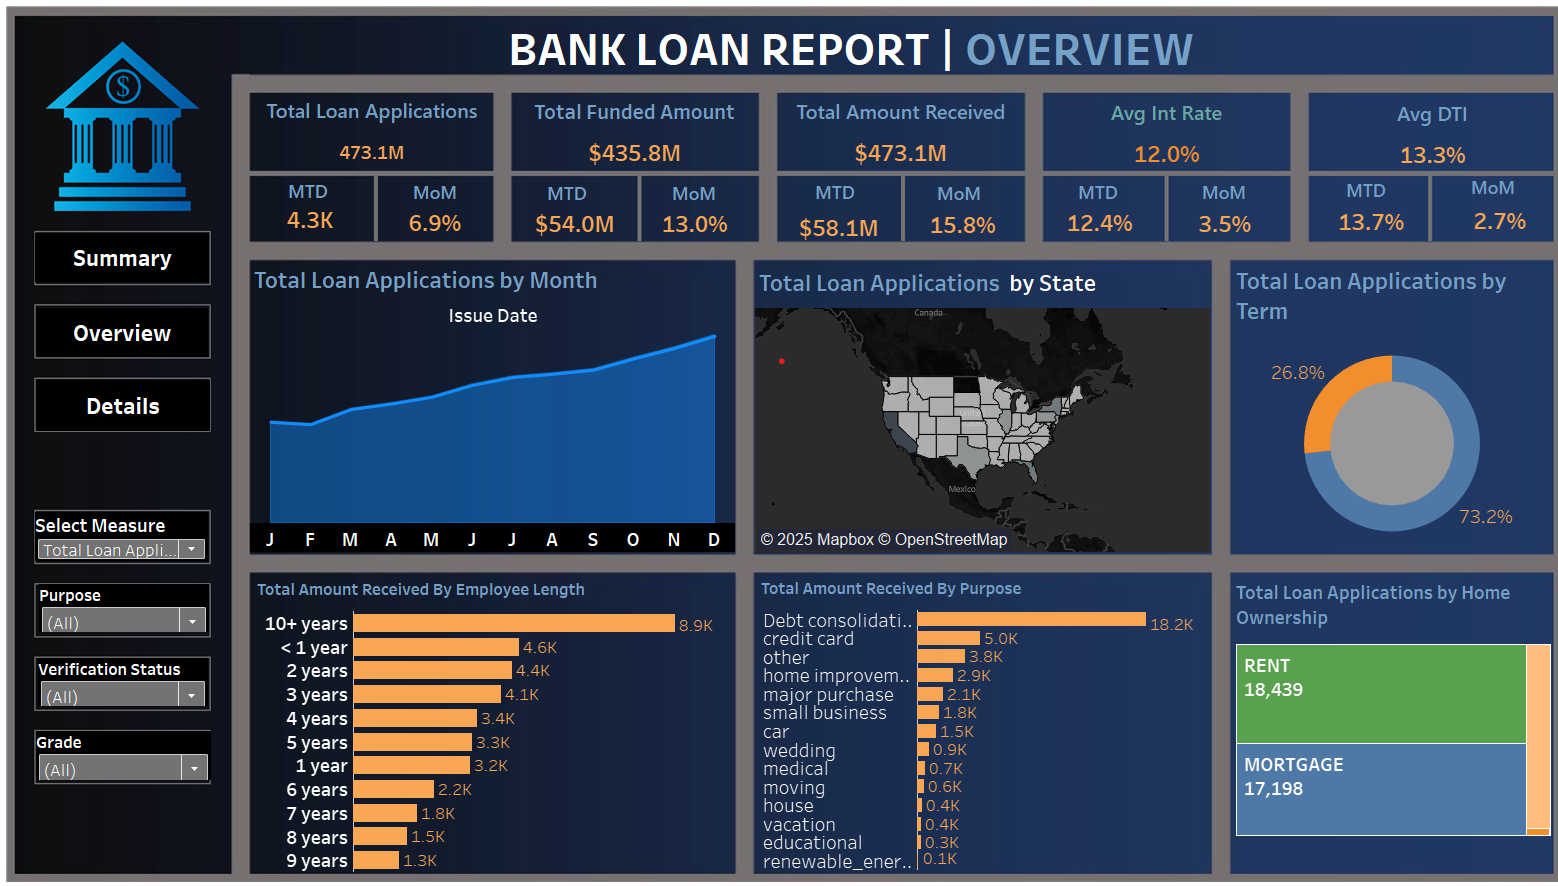

The dashboard page shown, as its layout file describes it:
{"tool":"tableau","page":{"name":"Overview","canvas":[1600,900],"ordinal":1},"visuals":[{"type":"image","param":"C:/Users/bhima/OneDrive/Desktop/Data Science Project/Module 1/Bank Loan Report/I","box":[8,8,1584,884]},{"type":"text","box":[270,29,1193,48]},{"type":"worksheet","title":"Total Loan Applications","mark":"Automatic","box":[265,98,244,78]},{"type":"worksheet","title":"Total Funded Amount","mark":"Automatic","box":[527,99,245,74]},{"type":"worksheet","title":"Total Amount Received","mark":"Automatic","box":[794,99,244,76]},{"type":"worksheet","title":"Avg Int Rate","mark":"Automatic","box":[1057,100,249,76]},{"type":"worksheet","title":"Avg DTI","mark":"Automatic","box":[1325,101,245,76]},{"type":"text","box":[1458,178,100,30]},{"type":"text","box":[1331,181,100,30]},{"type":"text","box":[273,182,100,30]},{"type":"text","box":[400,183,100,30]},{"type":"text","box":[800,183,100,30]},{"type":"text","box":[1063,183,100,30]},{"type":"text","box":[1189,183,100,30]},{"type":"text","box":[532,184,100,30]},{"type":"text","box":[659,184,100,30]},{"type":"text","box":[924,184,100,30]},{"type":"worksheet","title":"MoM Avg DTI","mark":"Automatic","box":[1470,195,90,63]},{"type":"worksheet","title":"MTD Avg Int Rate","mark":"Automatic","box":[1060,198,109,60]},{"type":"worksheet","title":"MoM Avg Int Rate","mark":"Automatic","box":[1192,198,95,61]},{"type":"worksheet","title":"MTD Avg DTI","mark":"Automatic","box":[1349,198,73,57]},{"type":"worksheet","title":"MTD Total Loan Applications","mark":"Automatic","box":[281,199,88,51]},{"type":"worksheet","title":"MTD Total Amount  Recevied","mark":"Automatic","box":[797,199,113,68]},{"type":"worksheet","title":"MoM Total Loan Applications","mark":"Automatic","box":[398,200,103,56]},{"type":"worksheet","title":"MoM Total  Amount Received","mark":"Automatic","box":[934,203,88,54]},{"type":"worksheet","title":"MTD Total Funded Amount","mark":"Automatic","box":[540,204,99,50]},{"type":"worksheet","title":"MoM Total Funded Amount","mark":"Automatic","box":[667,204,85,49]},{"type":"dashboard-object","box":[50,239,174,49]},{"type":"worksheet","title":"Month","mark":"Area","rows":["Calculation_382524533458173986","Calculation_382524533458173986"],"cols":["issue_date"],"box":[265,266,485,292]},{"type":"worksheet","title":"Term","mark":"Pie","rows":["Calculation_359443585551003657","Calculation_359443585551003657"],"box":[1247,267,320,290]},{"type":"worksheet","title":"State","mark":"Multipolygon","box":[770,269,455,289]},{"type":"dashboard-object","box":[51,314,172,49]},{"type":"dashboard-object","box":[51,386,174,51]},{"type":"parameter","param":"[Parameters].[Parameter 1]","box":[50,518,173,49]},{"type":"worksheet","title":"Purpose","mark":"Automatic","rows":["purpose"],"cols":["Calculation_382524533458173986"],"box":[772,579,452,297]},{"type":"worksheet","title":"Emp Length","mark":"Automatic","rows":["emp_length"],"cols":["Calculation_382524533458173986"],"box":[268,580,480,298]},{"type":"worksheet","title":"Home Ownership","mark":"Automatic","box":[1247,581,322,296]},{"type":"filter","title":"Total Loan Applications","param":"[federated.0bea7po1puaagk1dfoyjl1ghiif2].[none:purpose:nk]","box":[54,590,170,48]},{"type":"filter","title":"Total Loan Applications","param":"[federated.0bea7po1puaagk1dfoyjl1ghiif2].[none:verification_status:nk]","box":[53,664,170,48]},{"type":"filter","title":"Total Loan Applications","param":"[federated.0bea7po1puaagk1dfoyjl1ghiif2].[none:grade:nk]","box":[51,737,175,49]}]}

Visuals, with their boxes in screenshot pixels (x1, y1, x2, y2), scaled from the page's 1600x900 canvas onto the 1558x886 screenshot:
image: {"left": 8, "top": 8, "right": 1550, "bottom": 878}
text: {"left": 263, "top": 29, "right": 1425, "bottom": 76}
"Total Loan Applications" worksheet: {"left": 258, "top": 96, "right": 496, "bottom": 173}
"Total Funded Amount" worksheet: {"left": 513, "top": 97, "right": 752, "bottom": 170}
"Total Amount Received" worksheet: {"left": 773, "top": 97, "right": 1011, "bottom": 172}
"Avg Int Rate" worksheet: {"left": 1029, "top": 98, "right": 1272, "bottom": 173}
"Avg DTI" worksheet: {"left": 1290, "top": 99, "right": 1529, "bottom": 174}
text: {"left": 1420, "top": 175, "right": 1517, "bottom": 205}
text: {"left": 1296, "top": 178, "right": 1393, "bottom": 208}
text: {"left": 266, "top": 179, "right": 363, "bottom": 209}
text: {"left": 390, "top": 180, "right": 487, "bottom": 210}
text: {"left": 779, "top": 180, "right": 876, "bottom": 210}
text: {"left": 1035, "top": 180, "right": 1132, "bottom": 210}
text: {"left": 1158, "top": 180, "right": 1255, "bottom": 210}
text: {"left": 518, "top": 181, "right": 615, "bottom": 211}
text: {"left": 642, "top": 181, "right": 739, "bottom": 211}
text: {"left": 900, "top": 181, "right": 997, "bottom": 211}
"MoM Avg DTI" worksheet: {"left": 1431, "top": 192, "right": 1519, "bottom": 254}
"MTD Avg Int Rate" worksheet: {"left": 1032, "top": 195, "right": 1138, "bottom": 254}
"MoM Avg Int Rate" worksheet: {"left": 1161, "top": 195, "right": 1253, "bottom": 255}
"MTD Avg DTI" worksheet: {"left": 1314, "top": 195, "right": 1385, "bottom": 251}
"MTD Total Loan Applications" worksheet: {"left": 274, "top": 196, "right": 359, "bottom": 246}
"MTD Total Amount  Recevied" worksheet: {"left": 776, "top": 196, "right": 886, "bottom": 263}
"MoM Total Loan Applications" worksheet: {"left": 388, "top": 197, "right": 488, "bottom": 252}
"MoM Total  Amount Received" worksheet: {"left": 909, "top": 200, "right": 995, "bottom": 253}
"MTD Total Funded Amount" worksheet: {"left": 526, "top": 201, "right": 622, "bottom": 250}
"MoM Total Funded Amount" worksheet: {"left": 649, "top": 201, "right": 732, "bottom": 249}
dashboard-object: {"left": 49, "top": 235, "right": 218, "bottom": 284}
"Month" worksheet (Area marks): {"left": 258, "top": 262, "right": 730, "bottom": 549}
"Term" worksheet (Pie marks): {"left": 1214, "top": 263, "right": 1526, "bottom": 548}
"State" worksheet (Multipolygon marks): {"left": 750, "top": 265, "right": 1193, "bottom": 549}
dashboard-object: {"left": 50, "top": 309, "right": 217, "bottom": 357}
dashboard-object: {"left": 50, "top": 380, "right": 219, "bottom": 430}
parameter: {"left": 49, "top": 510, "right": 217, "bottom": 558}
"Purpose" worksheet: {"left": 752, "top": 570, "right": 1192, "bottom": 862}
"Emp Length" worksheet: {"left": 261, "top": 571, "right": 728, "bottom": 864}
"Home Ownership" worksheet: {"left": 1214, "top": 572, "right": 1528, "bottom": 863}
"Total Loan Applications" filter: {"left": 53, "top": 581, "right": 218, "bottom": 628}
"Total Loan Applications" filter: {"left": 52, "top": 654, "right": 217, "bottom": 701}
"Total Loan Applications" filter: {"left": 50, "top": 726, "right": 220, "bottom": 774}
